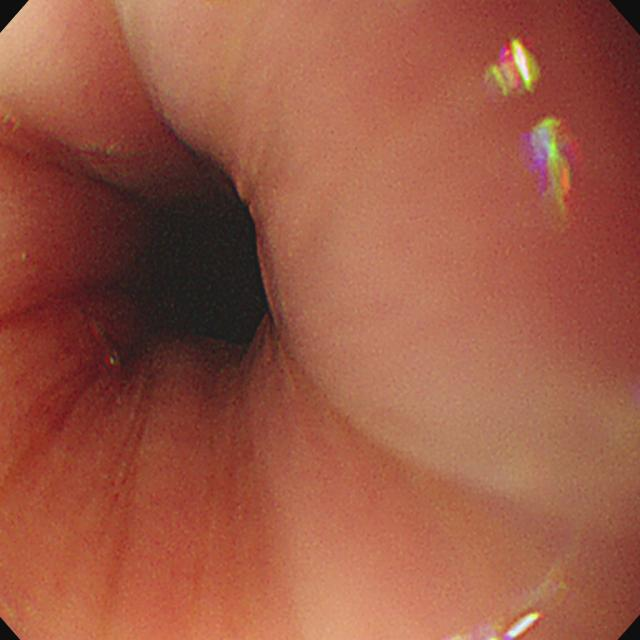E: (134, 201, 264, 346)
U: (528, 119, 583, 224), (485, 39, 542, 99), (476, 611, 545, 640)
